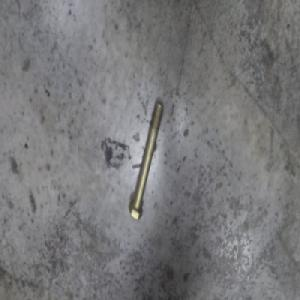Bolt: (128, 102, 165, 218)
